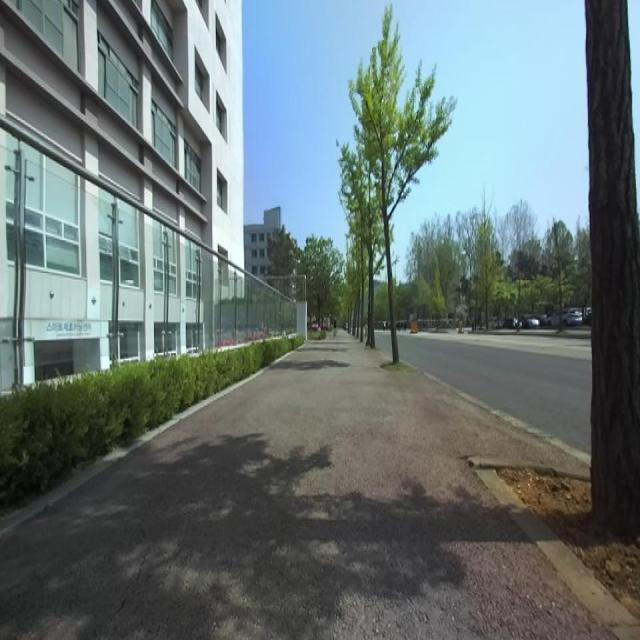sidewalk: (0, 331, 615, 639)
